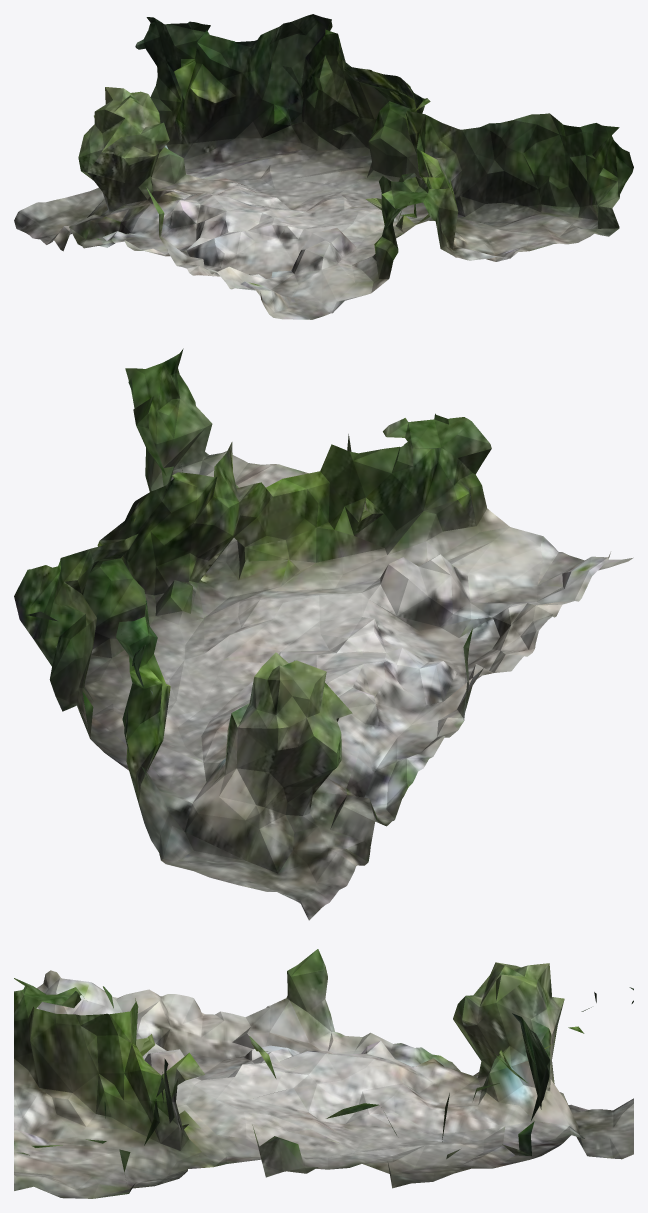
The picture shows the model from 3 angles, top to bottom: view 1: azimuth 30°, elevation 25°; view 2: azimuth 150°, elevation 25°; view 3: azimuth 270°, elevation 25°; orthographic projection. The views are drawn at different scales.
Bounding box in the file's own units: 21.76 × 9.88 × 26.11.
3 materials, 3 textured.
